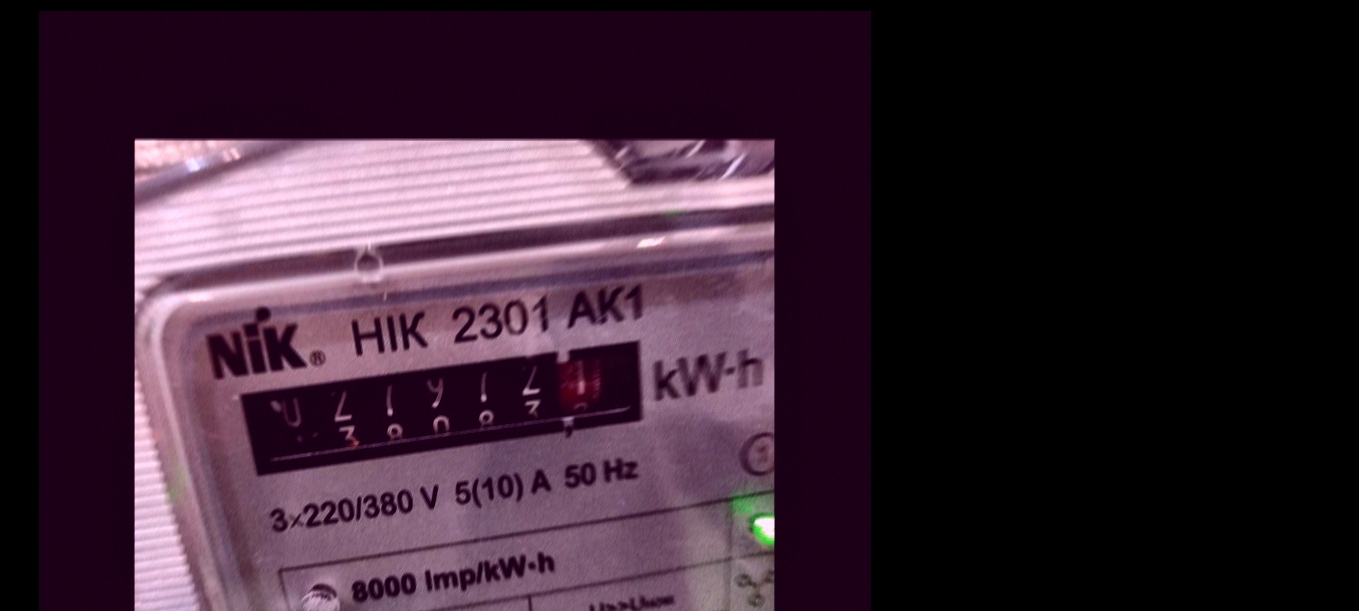0: (278, 392, 306, 428)
1: (571, 355, 593, 398)
2: (327, 383, 356, 422), (517, 359, 545, 396)
7: (470, 364, 496, 405), (377, 380, 400, 417)
9: (424, 373, 450, 408)
screen: (224, 331, 676, 485)
